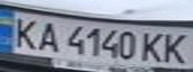0: (118, 28, 139, 61)
1: (81, 25, 103, 57)
4: (63, 22, 87, 56), (100, 27, 121, 60)
A: (33, 19, 63, 53)
K: (6, 15, 42, 49), (160, 30, 193, 65), (139, 29, 169, 64)
